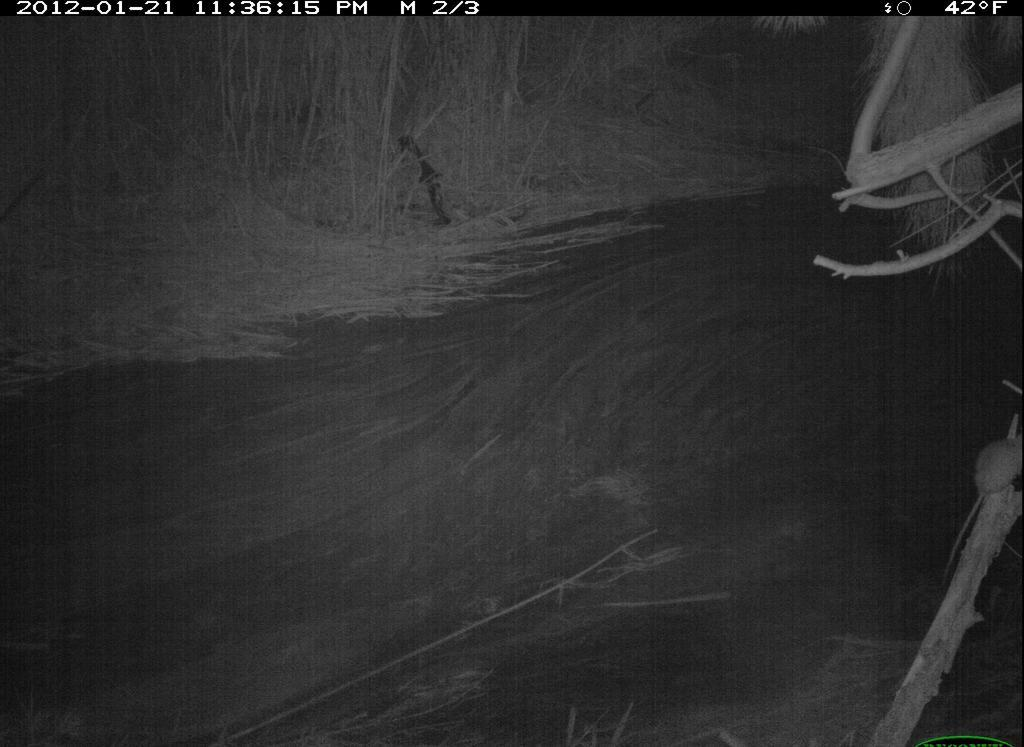rodent: (934, 413, 1023, 585)
